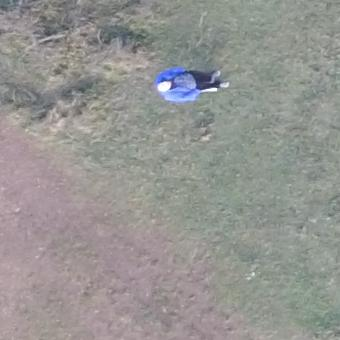human: (156, 64, 230, 104)
